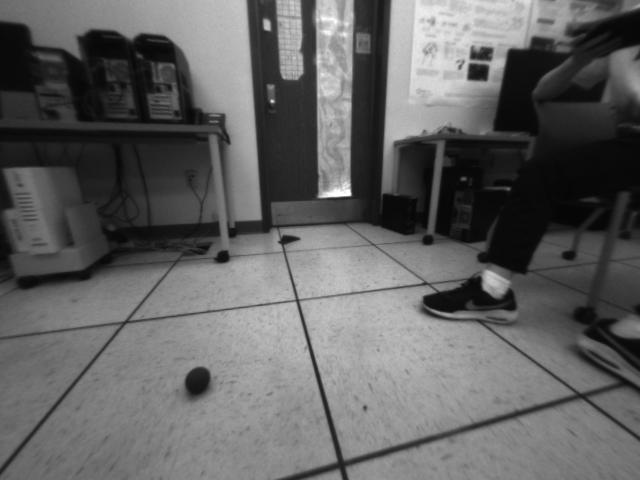dogtoy: (178, 360, 219, 400)
